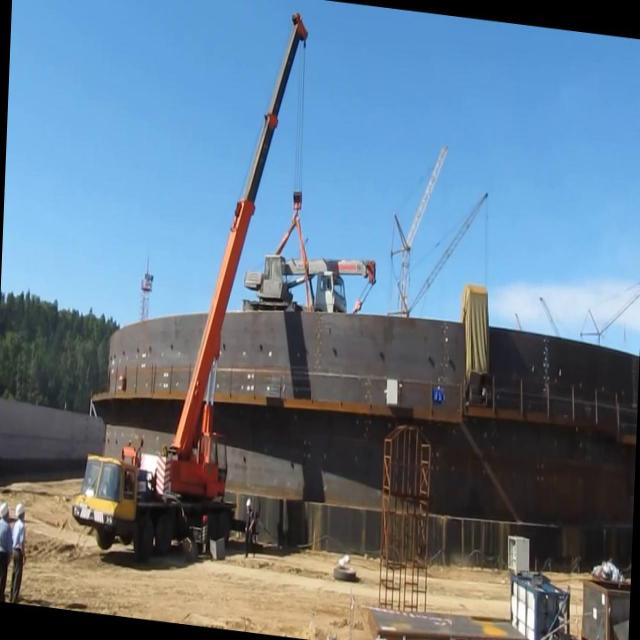crane: (69, 0, 310, 581)
